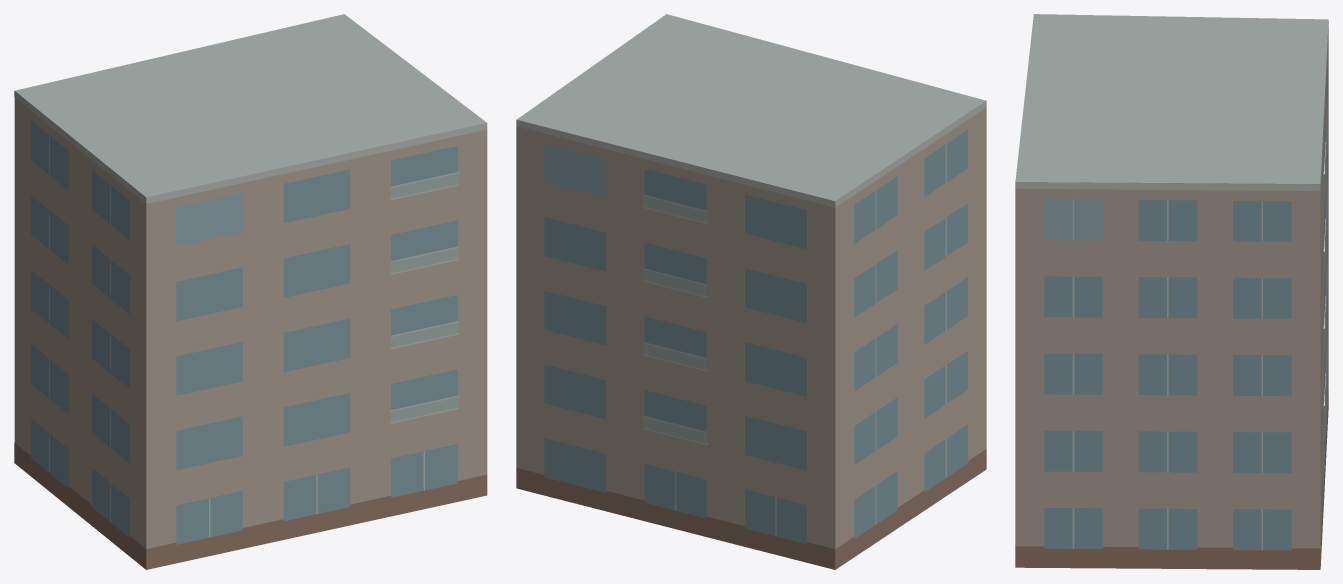
The model's file is survey-upis-32589338.glb.
3 renders of one model, left to right at view 1: azimuth 30°, elevation 25°; view 2: azimuth 150°, elevation 25°; view 3: azimuth 270°, elevation 25°, orthographic. The views are drawn at different scales.
Visible parts, largest first — view 1: survey-upis-32589338.tmp; view 2: survey-upis-32589338.tmp; view 3: survey-upis-32589338.tmp.
Part boxes in pixels (box(x1,y1,x2,y2)): survey-upis-32589338.tmp: box(14, 14, 487, 569); survey-upis-32589338.tmp: box(516, 14, 986, 569); survey-upis-32589338.tmp: box(1015, 14, 1328, 569).
Bounding box in the file's own units: 12.97 × 13.7 × 10.09.
